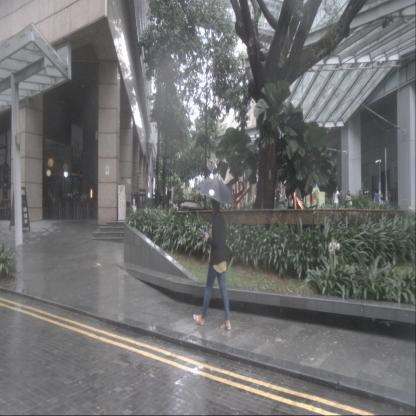human-pedestrian-adult: (192, 178, 237, 332), (332, 186, 339, 216), (337, 189, 344, 216), (374, 188, 381, 214), (346, 190, 352, 216), (276, 185, 282, 207)
